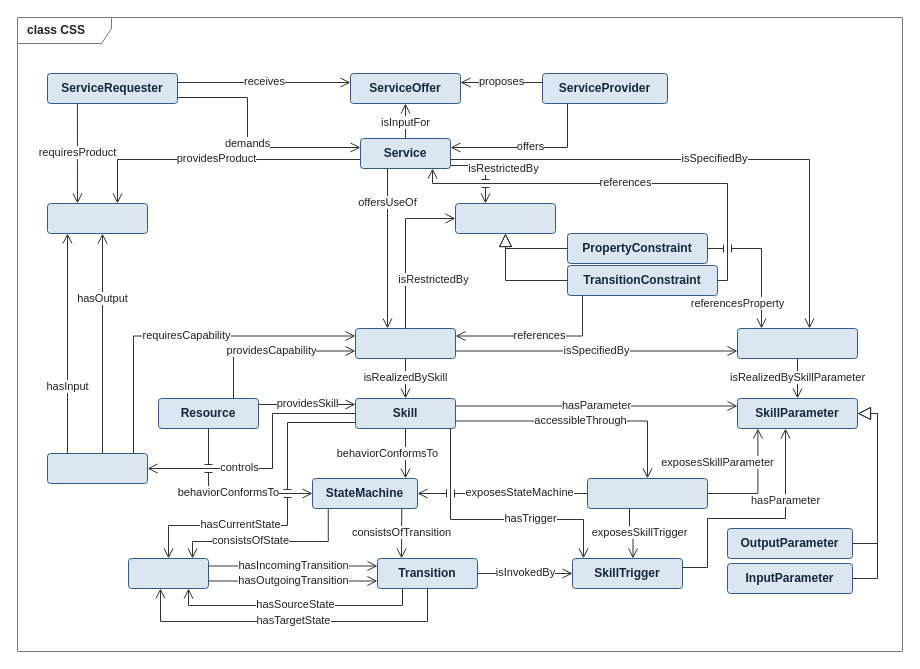
The diagram is 920 pixels wide and 669 high, and some of its shapes have lost their labels. Here are the shapes that lost their labels. From the top down, the centre of each, then its label:
At (97,218): "Product".
At (505,218): "Constraint".
At (405,343): "Capability".
At (797,343): "Property".
At (97,468): "Process".
At (647,493): "SkillInterface".
At (168,573): "State".
